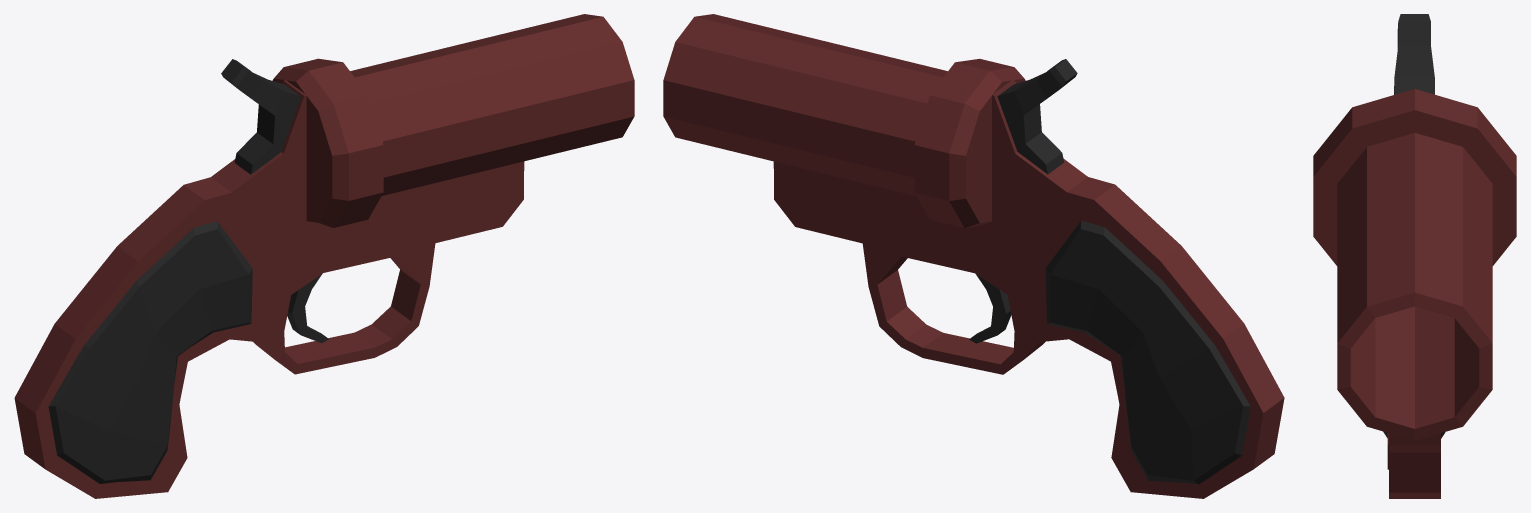
Rendered from flare_gun.glb.
The picture shows the model from 3 angles, left to right: view 1: azimuth 30°, elevation 25°; view 2: azimuth 150°, elevation 25°; view 3: azimuth 270°, elevation 25°; orthographic projection. The views are drawn at different scales.
Parts seen in each view (by area): view 1: flare_gun; view 2: flare_gun; view 3: flare_gun.
Boxes of the visible parts, x1,y1,x2,y2 form: flare_gun: (14,14,634,498); flare_gun: (663,14,1284,498); flare_gun: (1313,14,1516,498).
Size of the model in its own units: 0.25 by 0.1653 by 0.0602.
